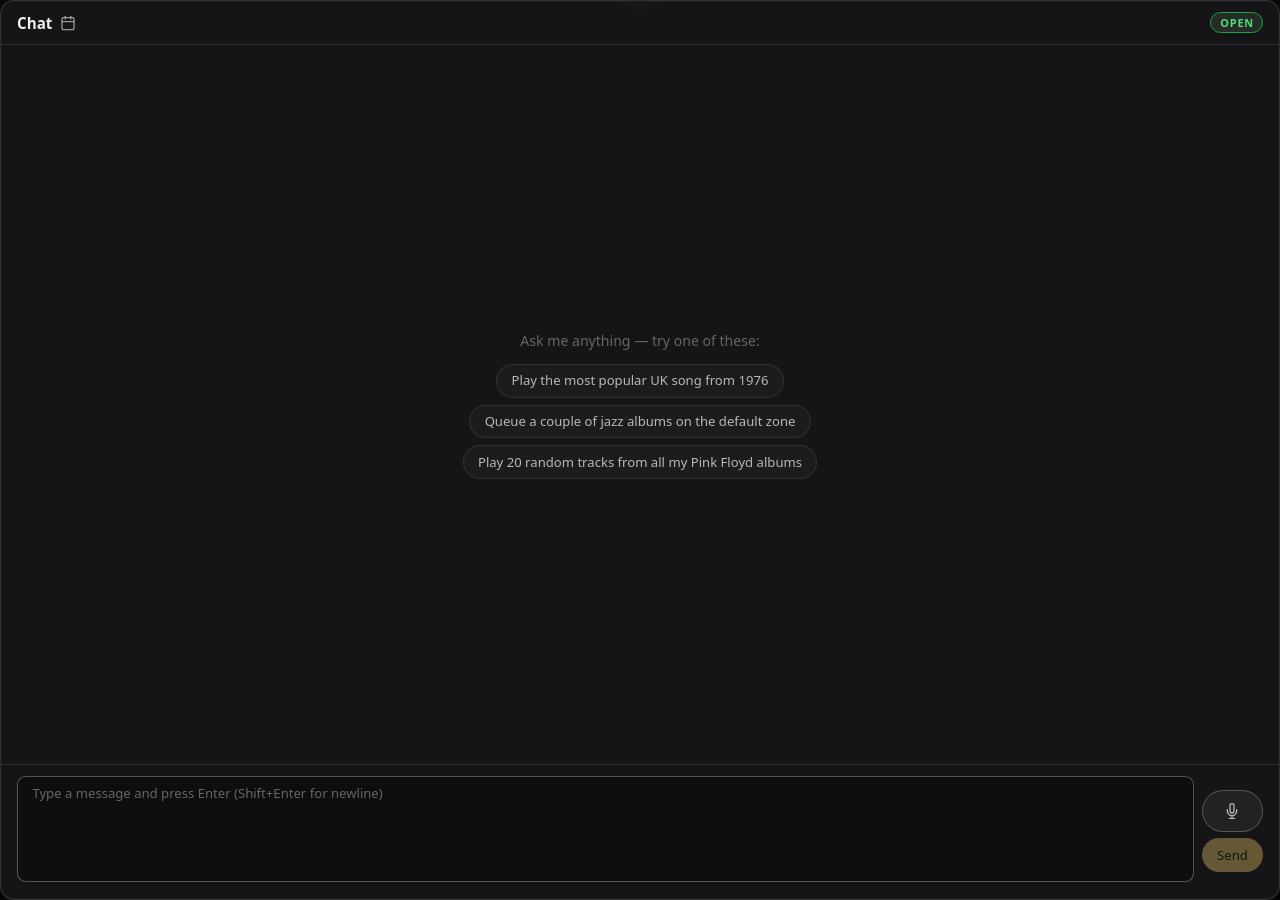
Scenario: ChatPanel empty-state prompt chips › populates the composer with the chip prompt when clicked
The width and height of the screenshot is (1280, 900).
Click the button "Play 20 random tracks from all my Pink Floyd albums".
click(640, 462)  # box [463,445,818,479]
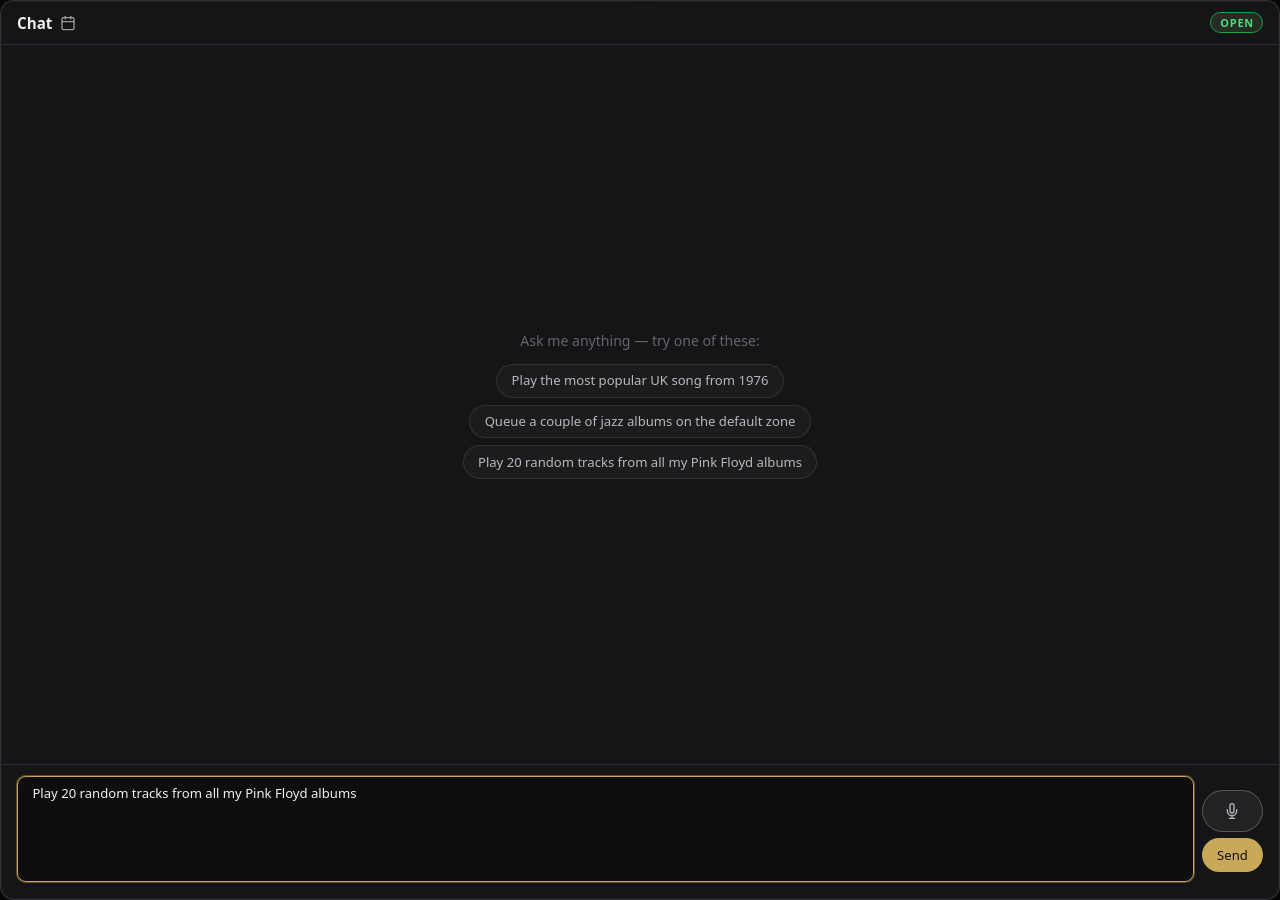
expect the text box holds "Play 20 random tracks from all my Pink Floyd albums": met, box [17,776,1194,882]
